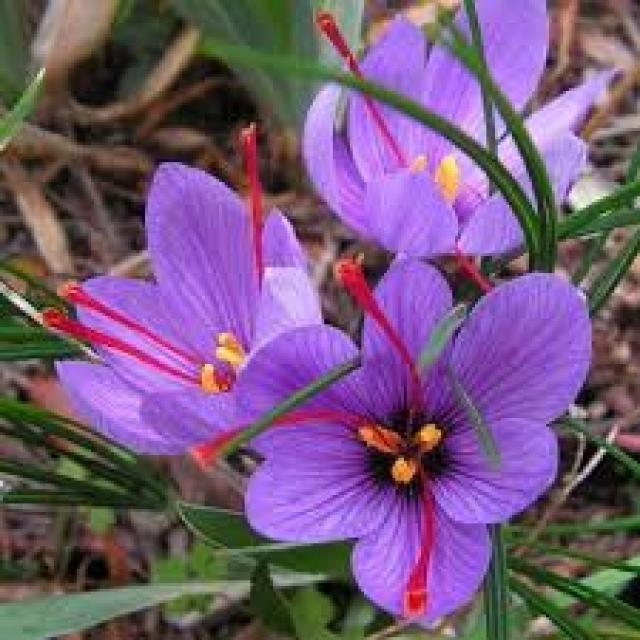Flower: (252, 274, 593, 628), (300, 2, 638, 266), (45, 164, 325, 466)
stigma: (314, 11, 409, 168), (41, 302, 202, 383), (62, 272, 197, 358), (196, 405, 355, 473), (334, 254, 417, 374), (404, 479, 439, 618), (235, 120, 265, 274)
